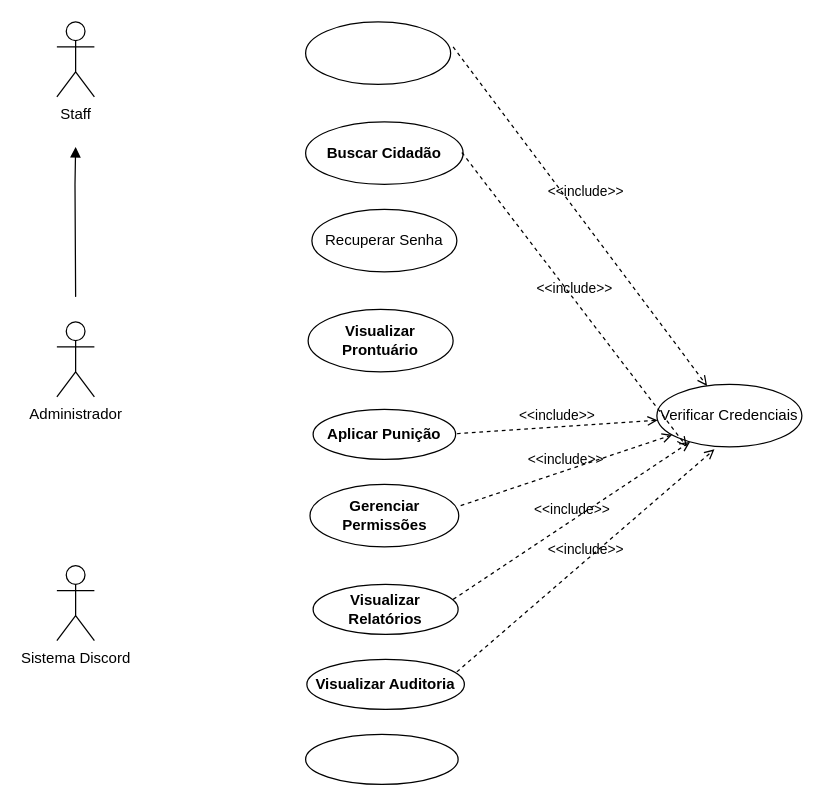
The diagram is 824 pixels wide and 806 high, and some of its shapes have lost their labels. The shapes that lost their labels are listed below. From the top down, each one's centre as x and y in pixels, then its label:
At (x=377, y=52): "Fazer Login".
At (x=381, y=758): "Receber Denúncia Automática".
